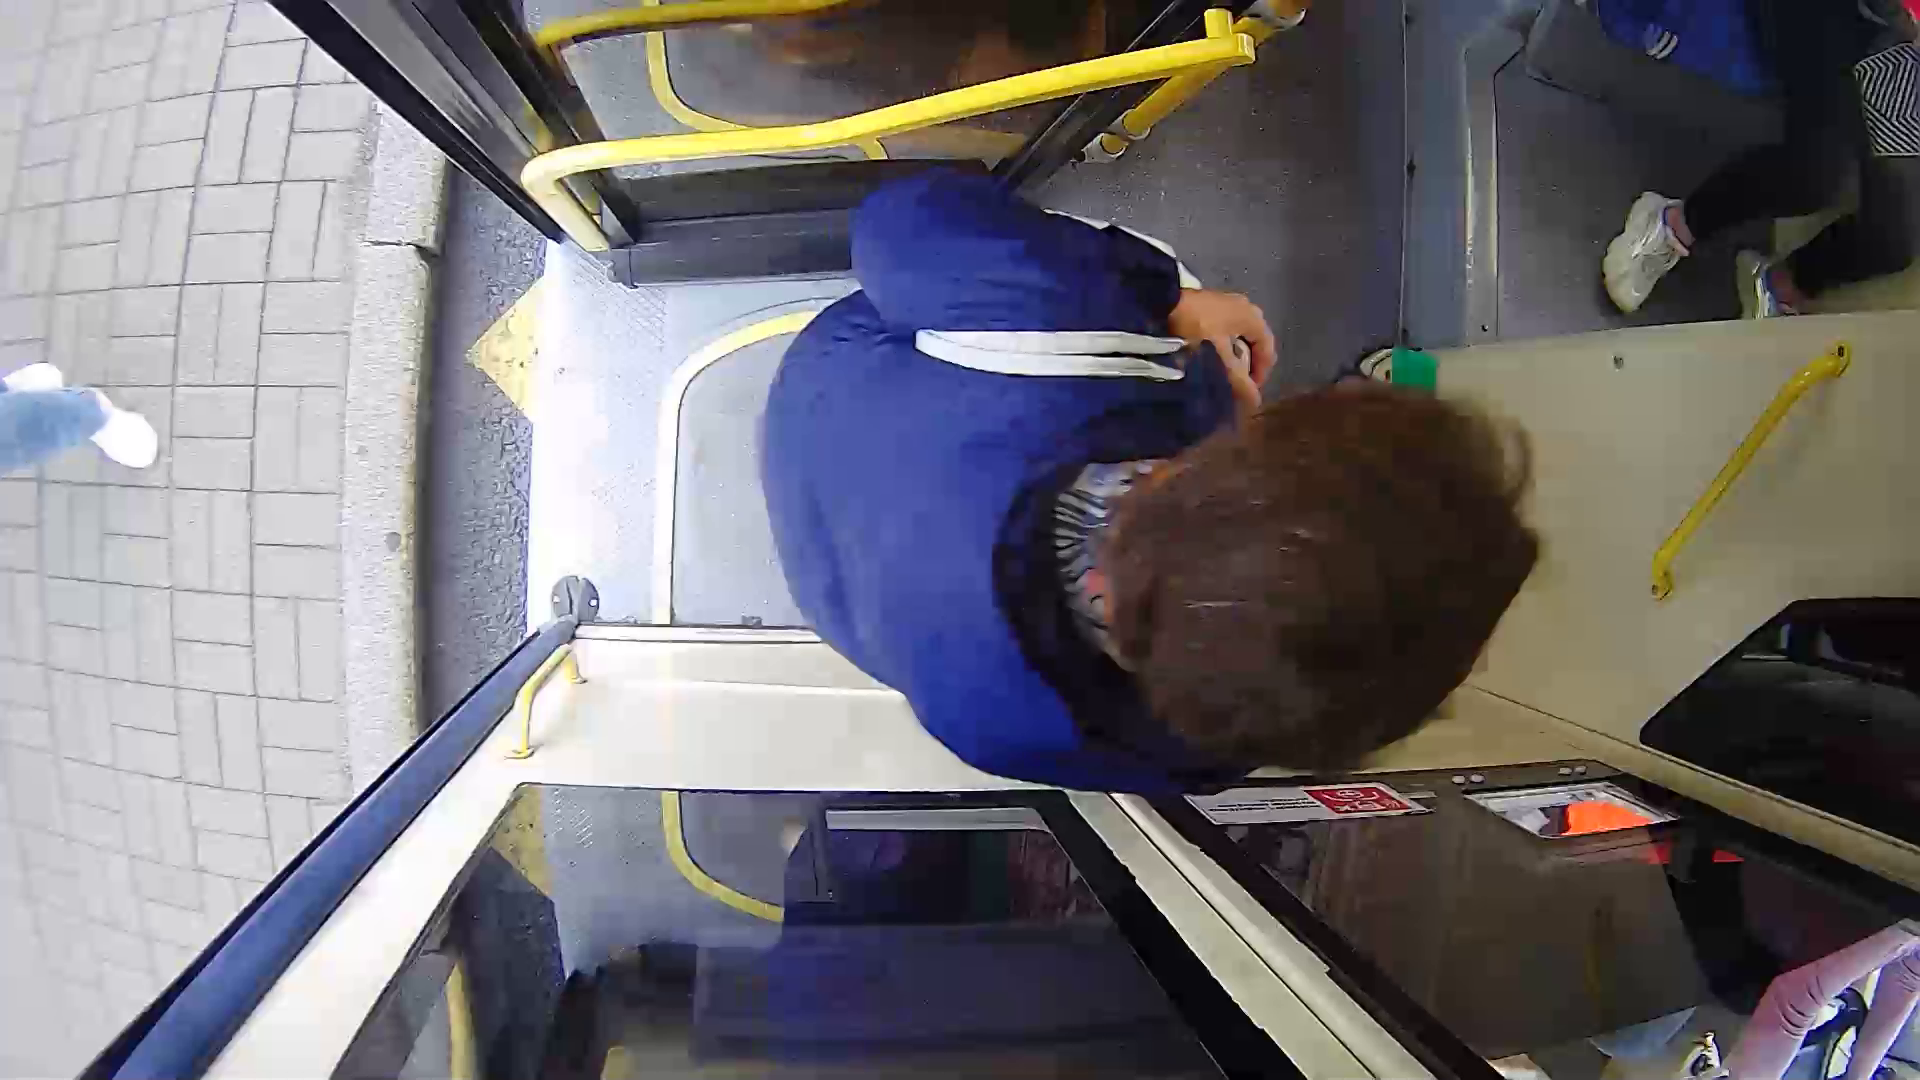person: (745, 197, 1634, 819)
